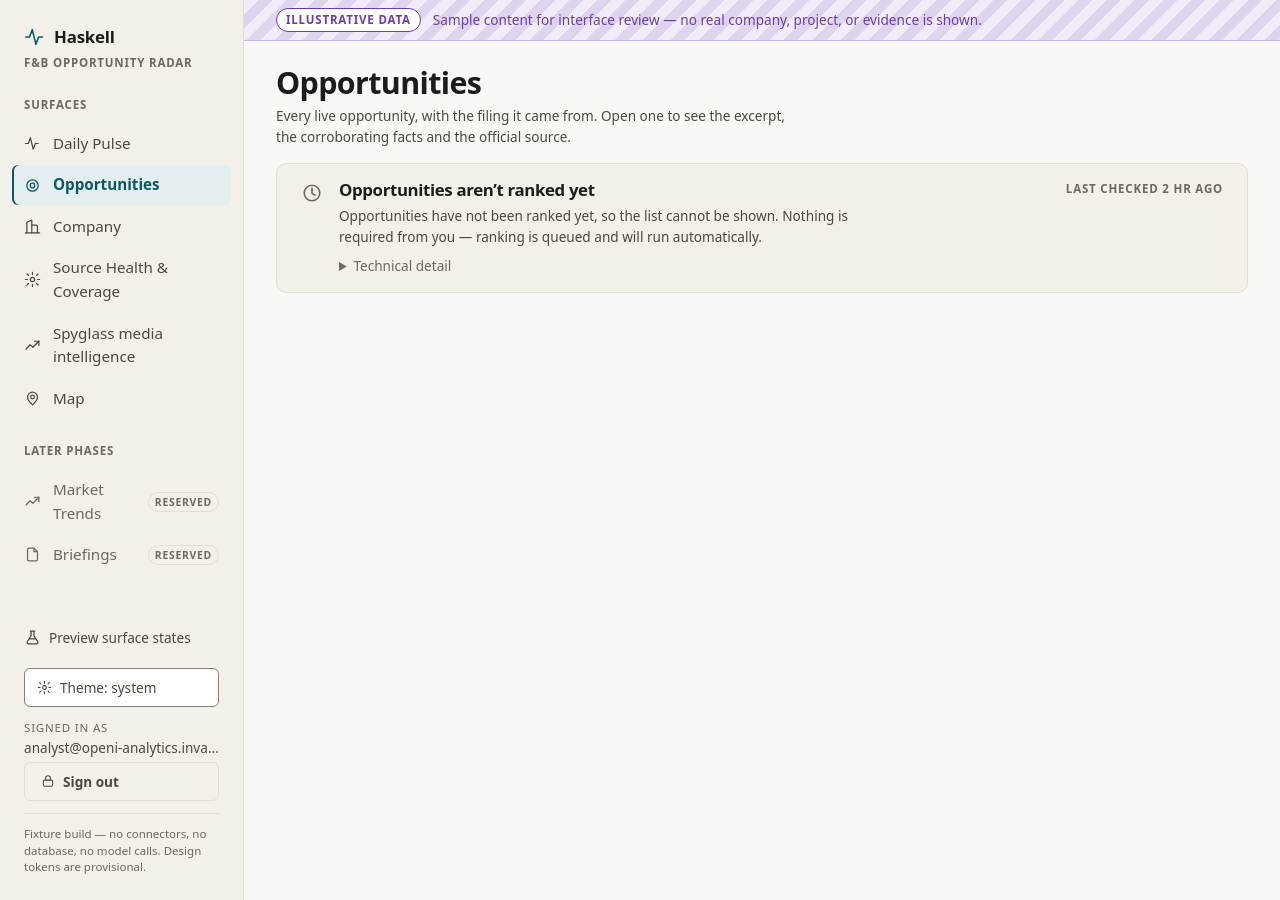
Test: unavailable state › keeps the technical cause behind a disclosure
Click the heading "Technical detail".
click(402, 265)  # box [353,256,451,275]
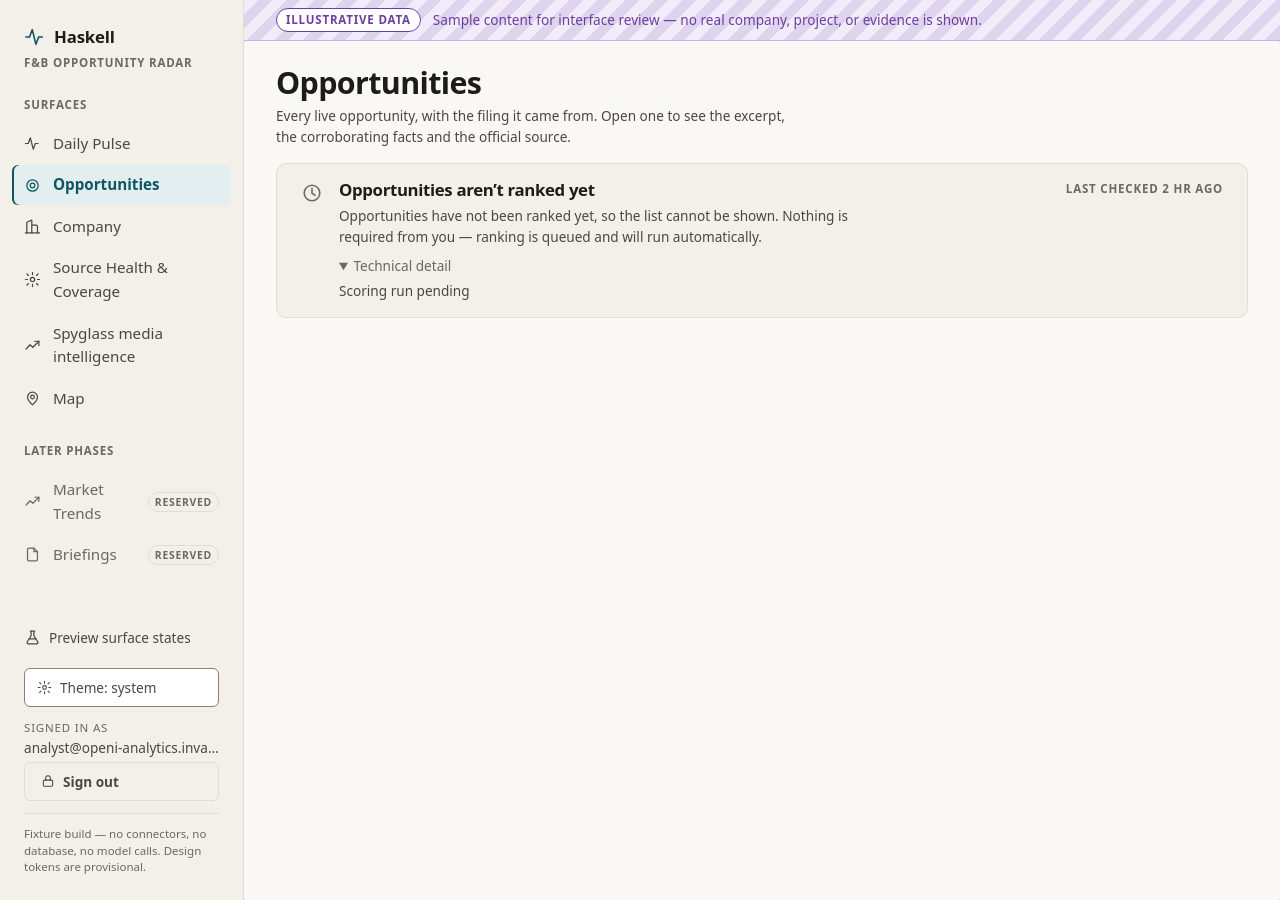
Check: the text "Scoring run pending" is shown, box [339,281,470,300]
